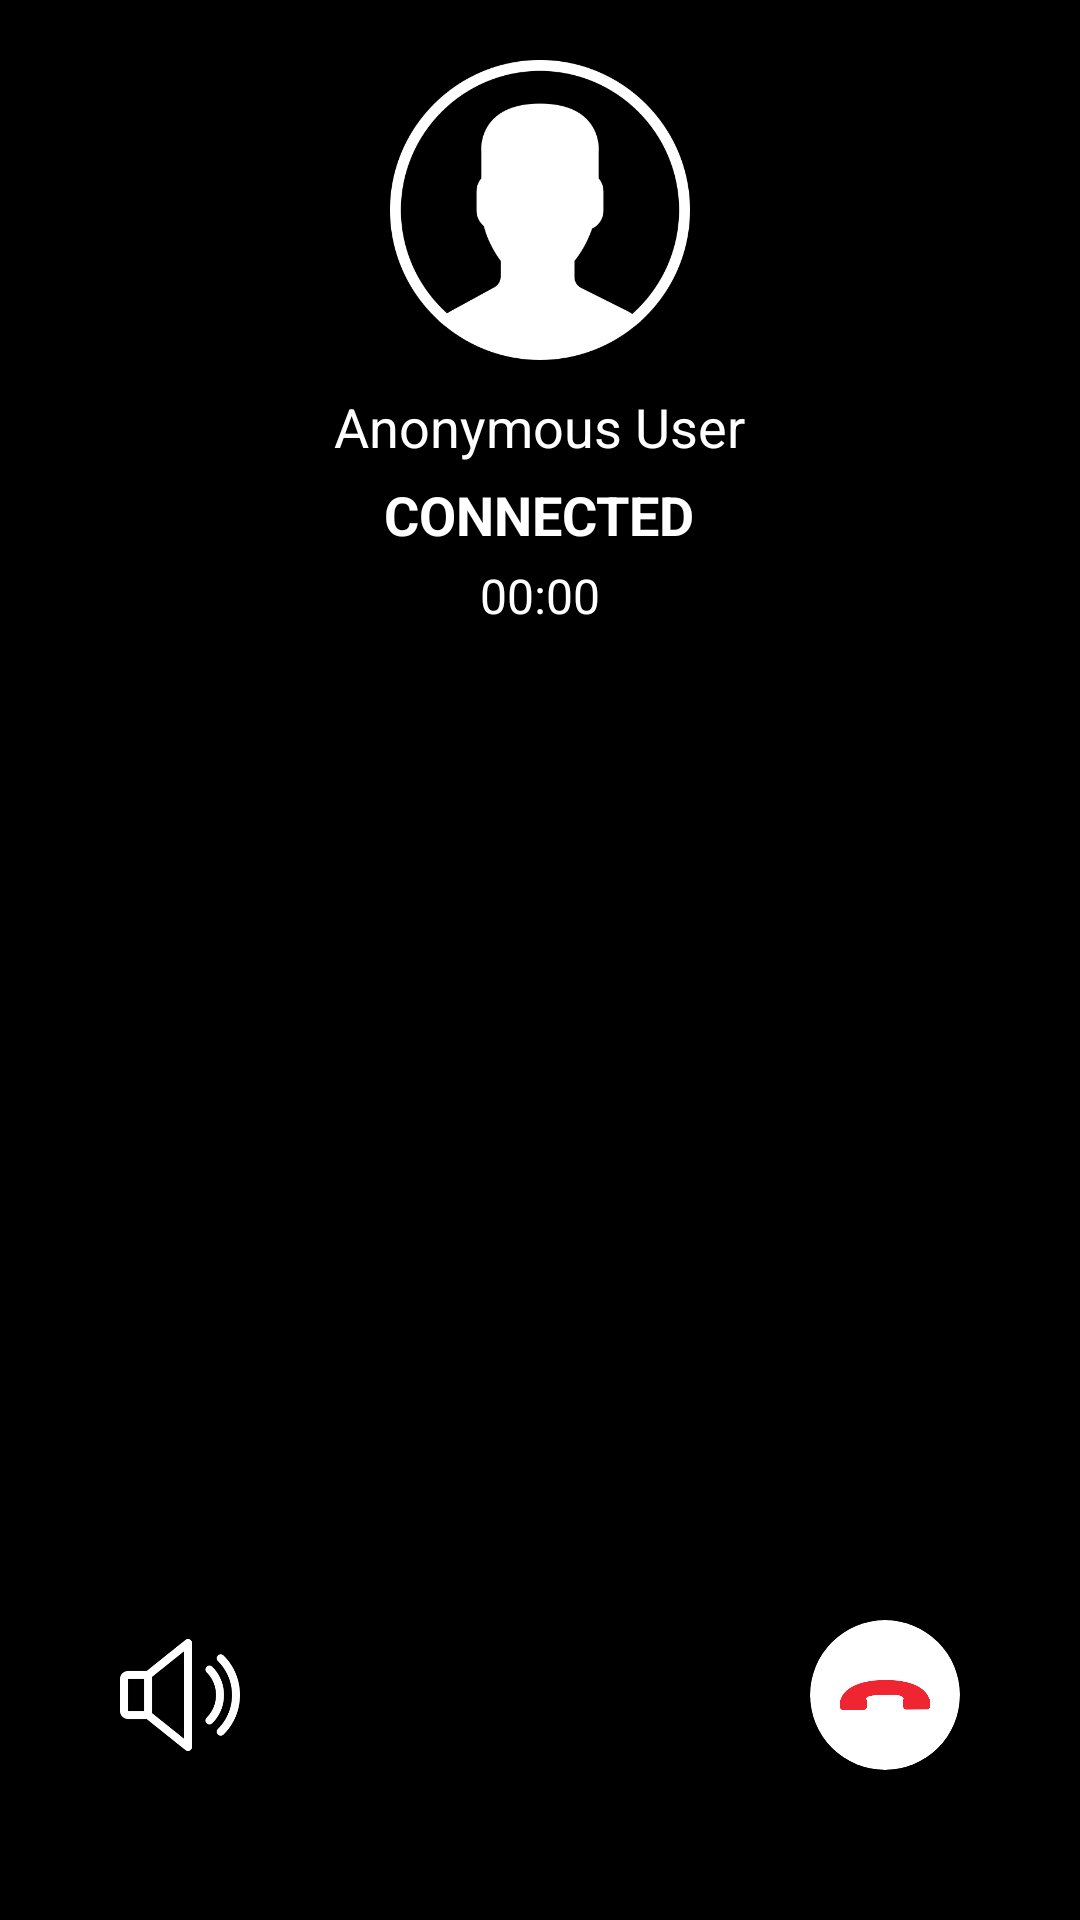

Icons on this 1080px×1920px Android screen, each with the point to tap as point (x, y):
call down: point (885, 1695)
call user: point (540, 210)
speaker: point (180, 1695)
